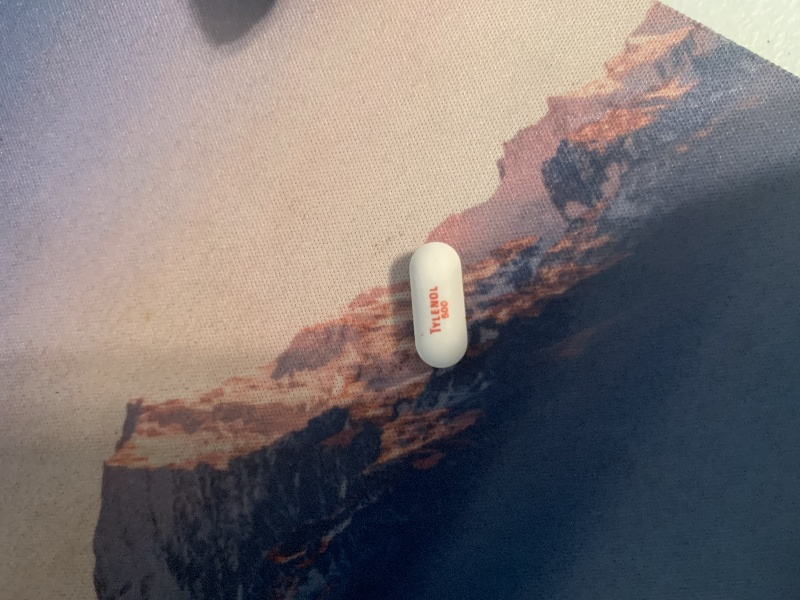Tylenol: (404, 237, 477, 374)
